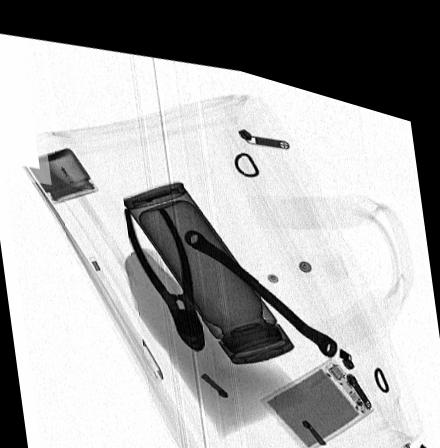Pliers: (123, 196, 204, 340)
Powerbank: (260, 339, 375, 434)
Wrench: (183, 218, 338, 338)
